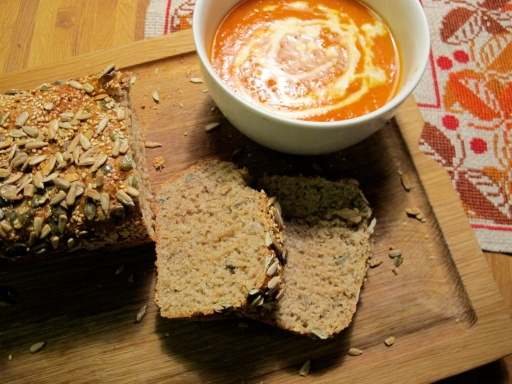background: (0, 37, 302, 203), (153, 0, 320, 73)
